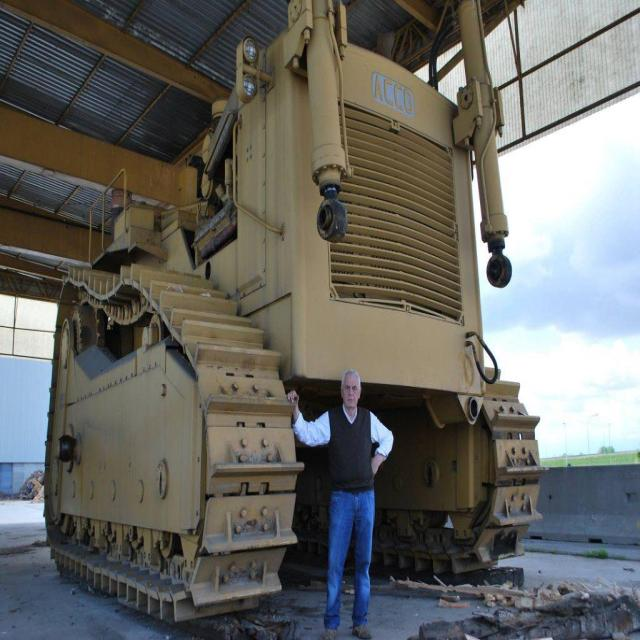bull_dozer/loader/grader: (48, 24, 568, 623)
